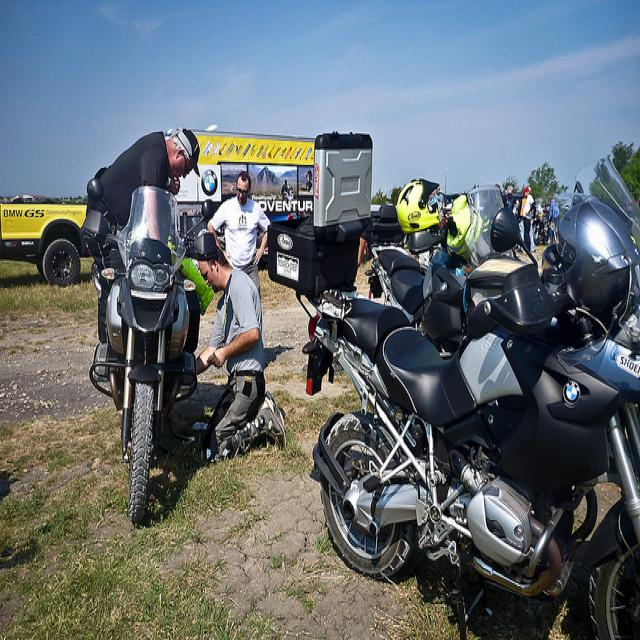motor: (305, 144, 640, 637), (83, 180, 218, 525), (366, 185, 505, 359), (440, 208, 458, 239)
